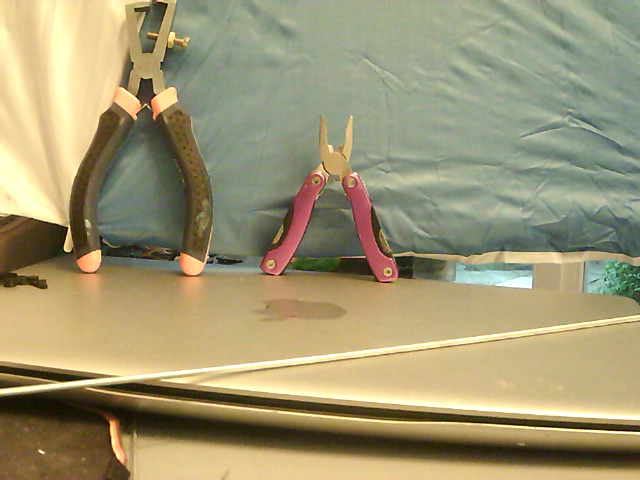pliers: (260, 109, 398, 285)
